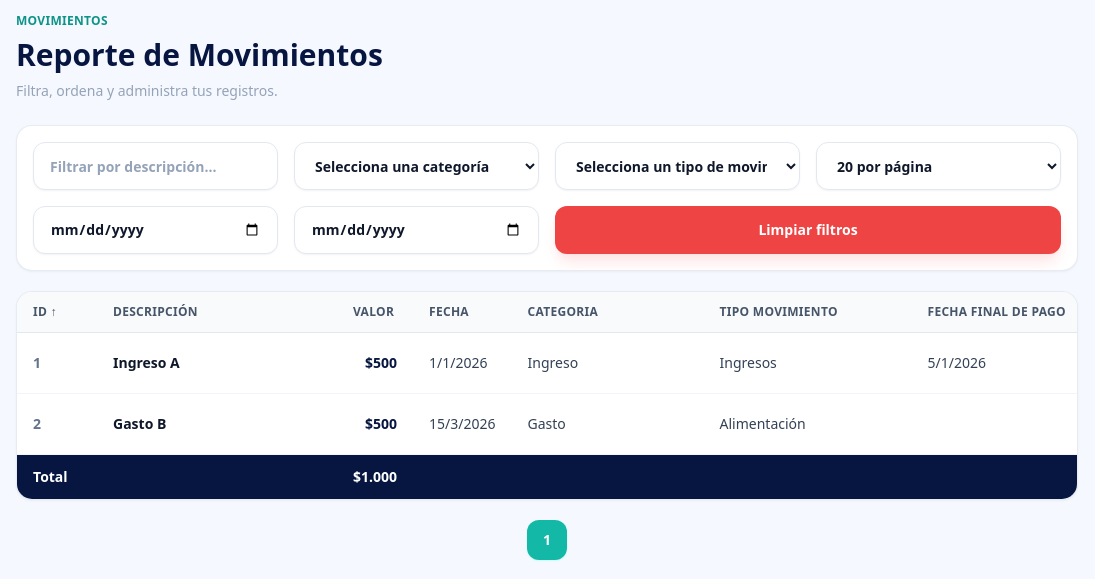
Test: TablaReportes more coverage › filtra por tipo de movimiento
Expected: the text "Ingreso A" is shown, [97,332,337,394]
Expected: the text "Gasto B" is shown, [97,394,337,454]
Select "Alimentación" in the 2nd dropdown showing "Selecciona un tipo de movimiento" at (678, 166), box [555,142,800,190]
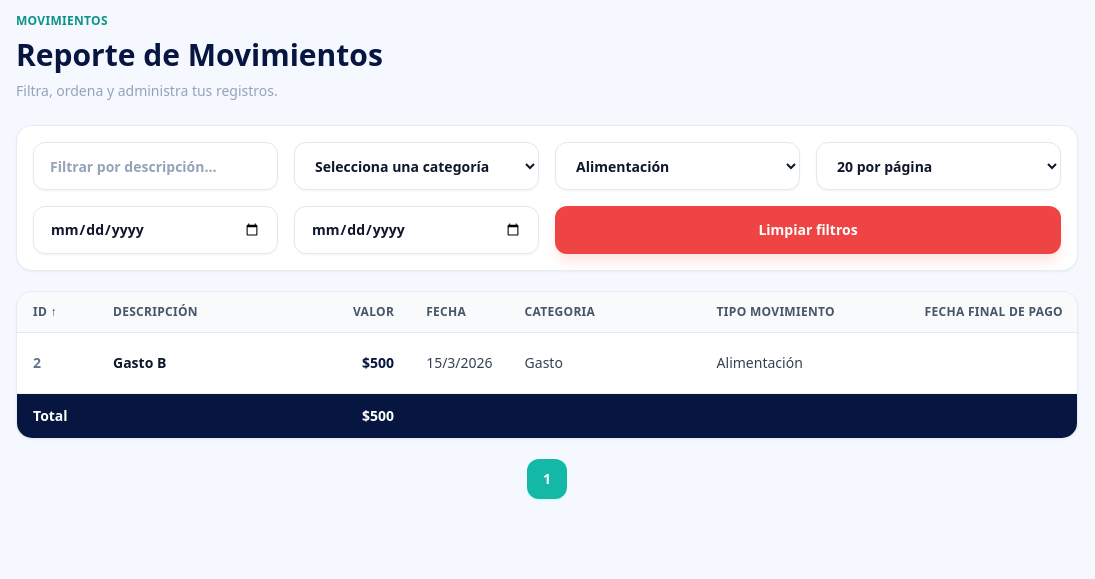
Expected: the text "Gasto B" is shown, [97,332,337,394]
Now the text "Ingreso A" is gone
